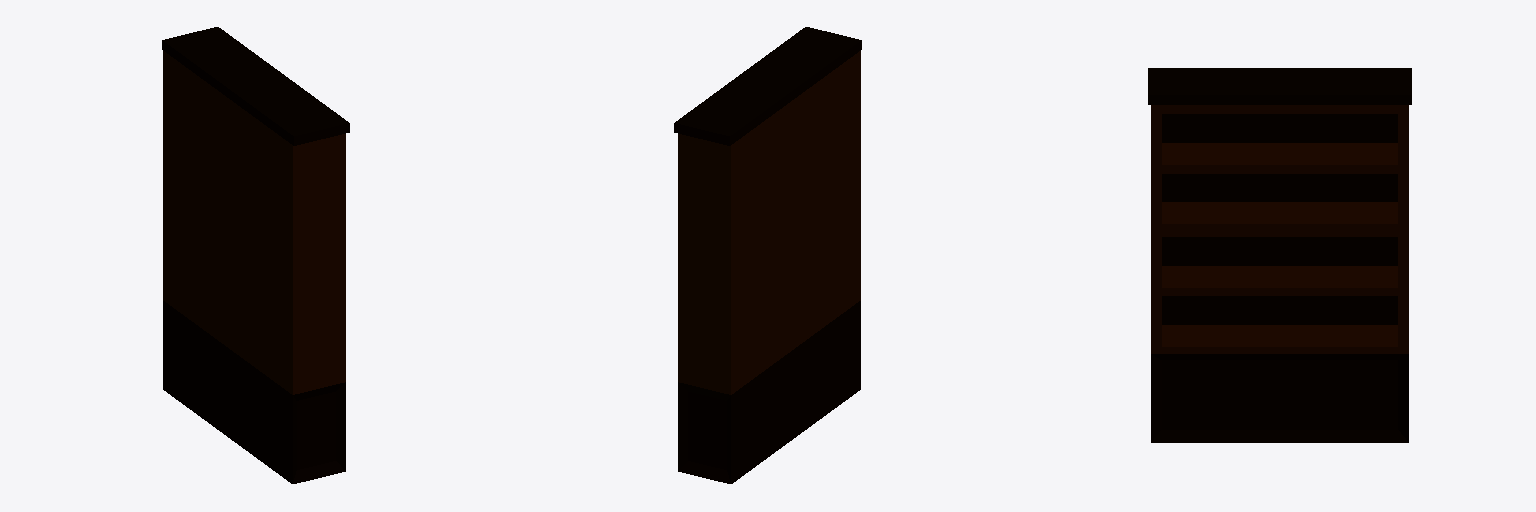
The model's file is shop_shelf.obj.
3 renders of one model, left to right at view 1: azimuth 30°, elevation 25°; view 2: azimuth 150°, elevation 25°; view 3: azimuth 270°, elevation 25°, orthographic.
Parts seen in each view (by area): view 1: shop_shelf; view 2: shop_shelf; view 3: shop_shelf.
Boxes of the visible parts, x1,y1,x2,y2 form: shop_shelf: [162, 27, 349, 483]; shop_shelf: [674, 27, 861, 483]; shop_shelf: [1148, 68, 1411, 442].
Size of the model in its own units: 0.7219 by 4.31 by 2.95.